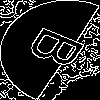B: (25, 25, 98, 76)
